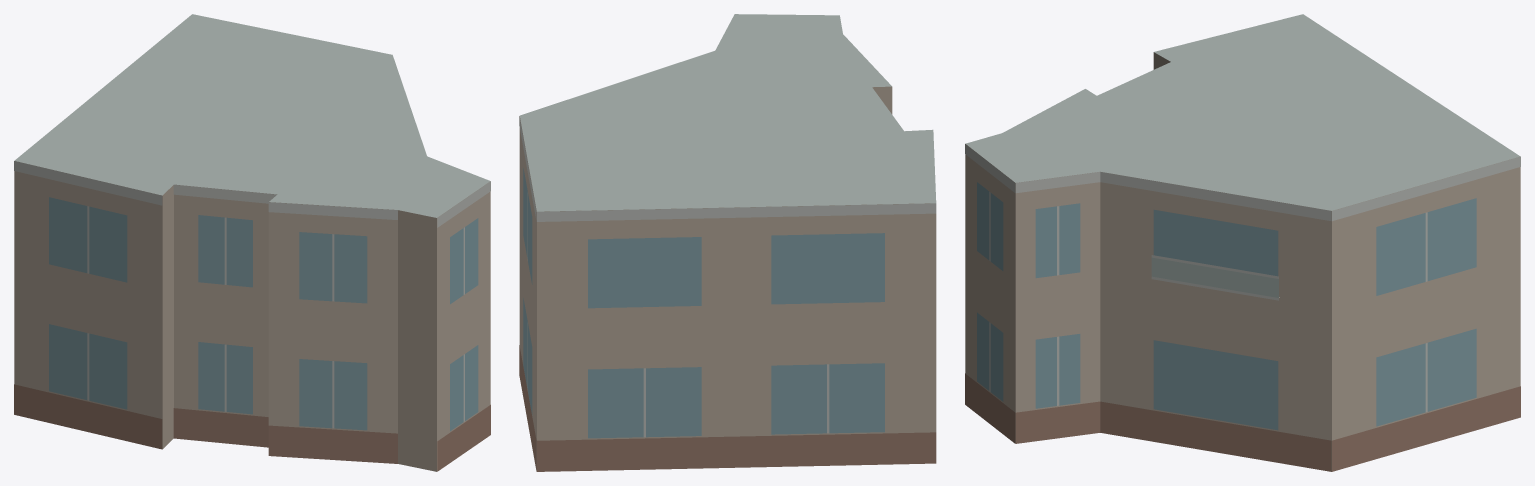
File: survey-upis-32816417.glb
3 views of the same model, side by side, from view 1: azimuth 30°, elevation 25°; view 2: azimuth 150°, elevation 25°; view 3: azimuth 270°, elevation 25° (orthographic). The views are drawn at different scales.
Visible parts, largest first — view 1: survey-upis-32816417.tmp; view 2: survey-upis-32816417.tmp; view 3: survey-upis-32816417.tmp.
Boxes of the visible parts, x1,y1,x2,y2 form: survey-upis-32816417.tmp: [14, 14, 490, 471]; survey-upis-32816417.tmp: [519, 14, 936, 471]; survey-upis-32816417.tmp: [965, 14, 1520, 471].
Size of the model in its own units: 9.88 by 6.1 by 11.78.
